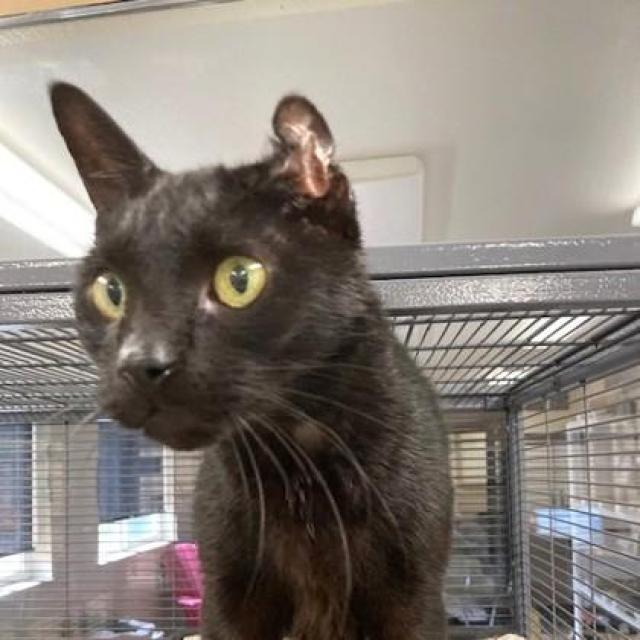domestic_short_hair_cat: (35, 59, 415, 508)
